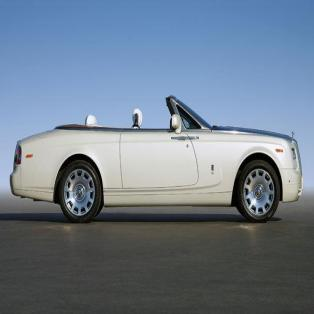Auto: (10, 95, 303, 222)
